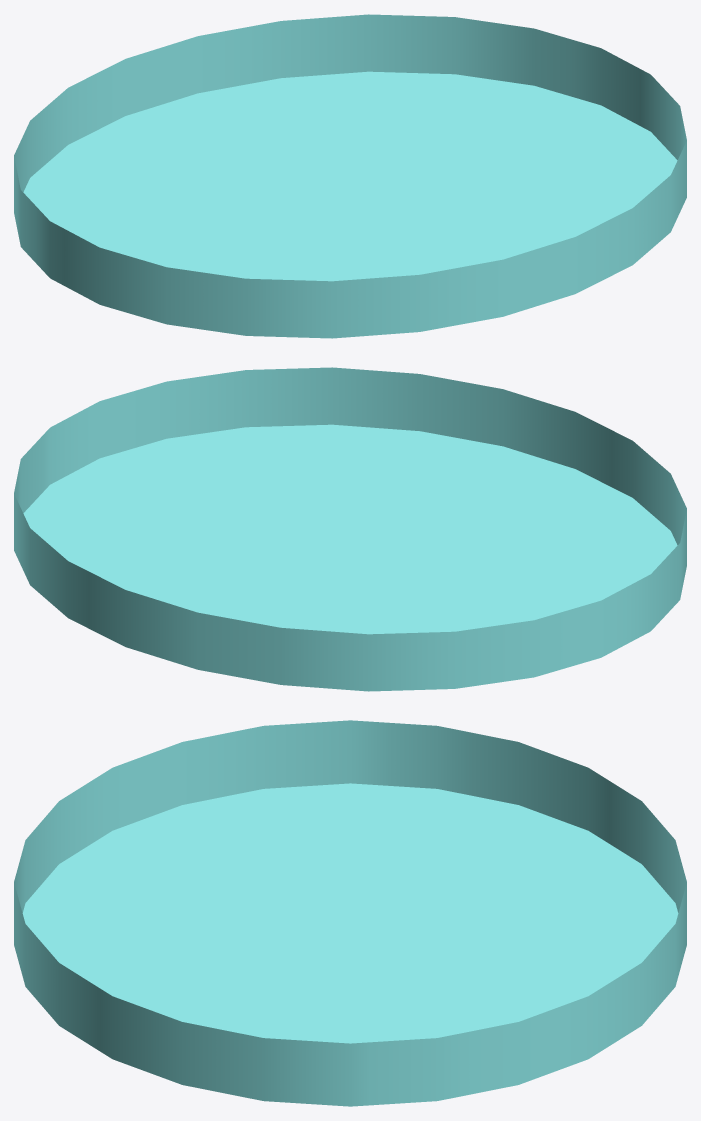
File: original-11.obj
The picture shows the model from 3 angles, top to bottom: view 1: azimuth 30°, elevation 25°; view 2: azimuth 150°, elevation 25°; view 3: azimuth 270°, elevation 25°; orthographic projection. The views are drawn at different scales.
Visible parts, largest first — view 1: #ID378; view 2: #ID378; view 3: #ID378.
Part boxes in pixels (x1,y1,x2,y2): #ID378: (14,14,686,338); #ID378: (14,367,686,691); #ID378: (14,720,686,1106).
Bounding box in the file's own units: 0.0562 × 0.00511 × 0.0495.
